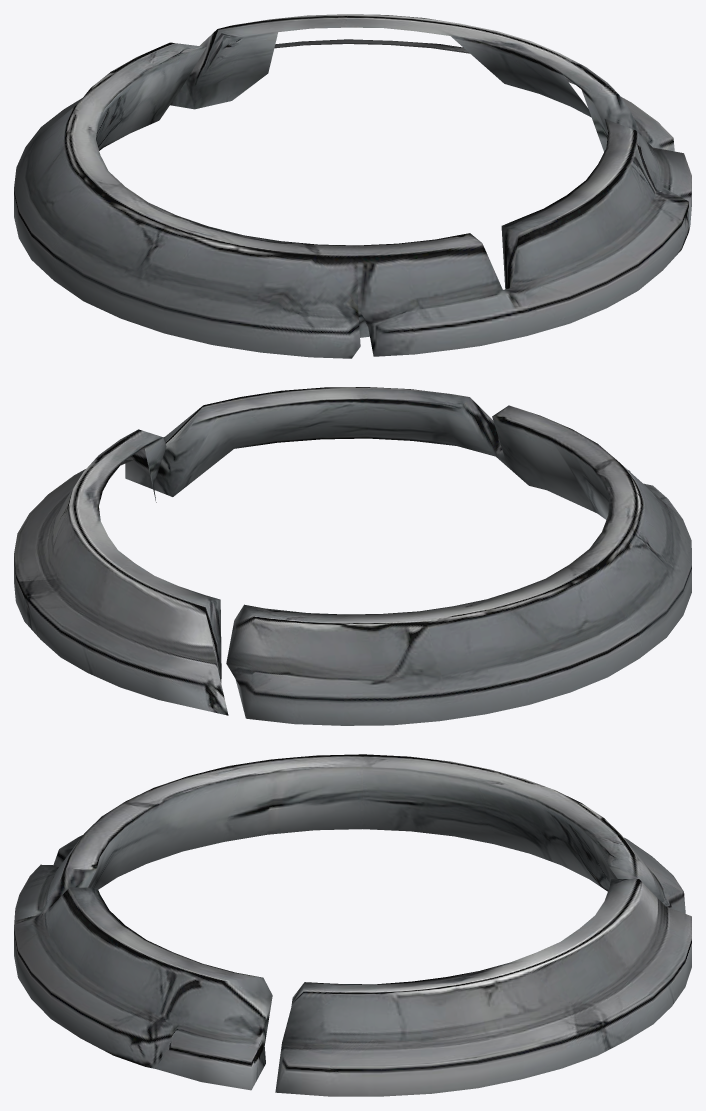
The model's file is 05 junk.glb.
3 renders of one model, top to bottom at view 1: azimuth 30°, elevation 25°; view 2: azimuth 150°, elevation 25°; view 3: azimuth 270°, elevation 25°, orthographic.
Parts seen in each view (by area): view 1: tripo_node_80ca2dd4-a8fb-4841-96f5-10ea1769990e; view 2: tripo_node_80ca2dd4-a8fb-4841-96f5-10ea1769990e; view 3: tripo_node_80ca2dd4-a8fb-4841-96f5-10ea1769990e.
Part boxes in pixels (x1,y1,x2,y2): tripo_node_80ca2dd4-a8fb-4841-96f5-10ea1769990e: (14,14,691,358); tripo_node_80ca2dd4-a8fb-4841-96f5-10ea1769990e: (14,387,691,725); tripo_node_80ca2dd4-a8fb-4841-96f5-10ea1769990e: (14,754,691,1096).
Bounding box in the file's own units: 0.1293 × 0.0164 × 0.1293.
1 material, 1 textured.
